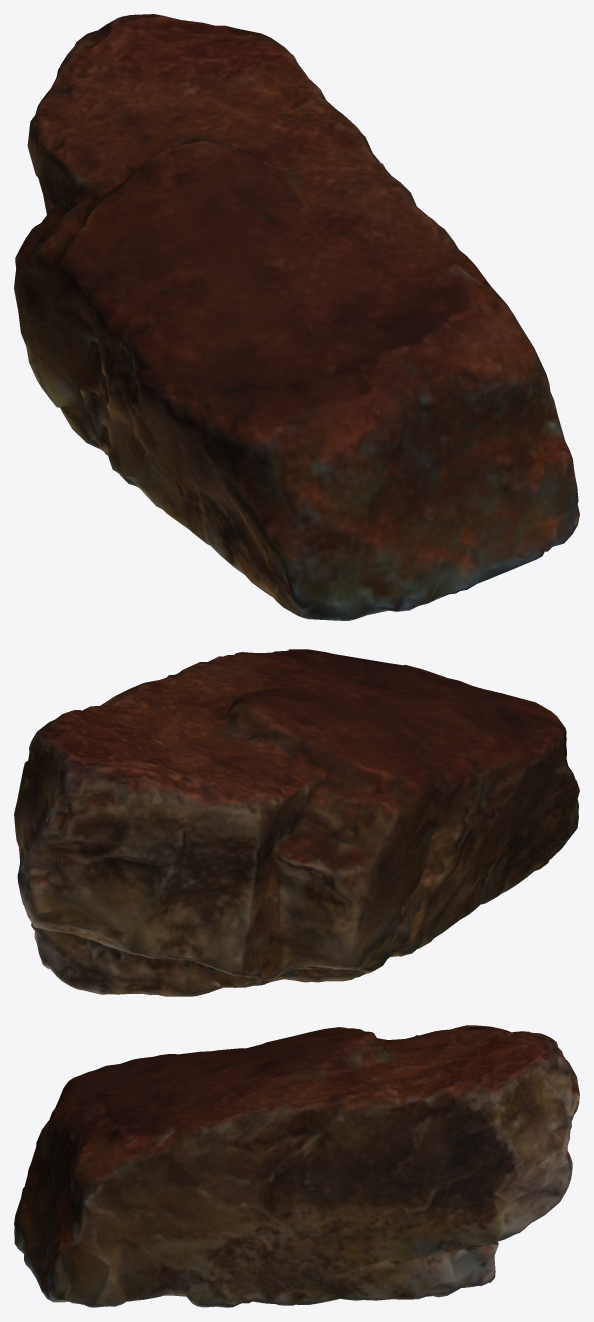
Rendered from rock_07.glb.
The picture shows the model from 3 angles, top to bottom: view 1: azimuth 30°, elevation 25°; view 2: azimuth 150°, elevation 25°; view 3: azimuth 270°, elevation 25°; orthographic projection. The views are drawn at different scales.
Visible parts, largest first — view 1: rock_07; view 2: rock_07; view 3: rock_07.
Part boxes in pixels (box(x1,y1,x2,y2)): rock_07: box(14, 14, 579, 620); rock_07: box(14, 649, 579, 996); rock_07: box(14, 1025, 579, 1307).
Bounding box in the file's own units: 0.1689 × 0.1437 × 0.3202.
Materials: 1 (1 with a texture image).
